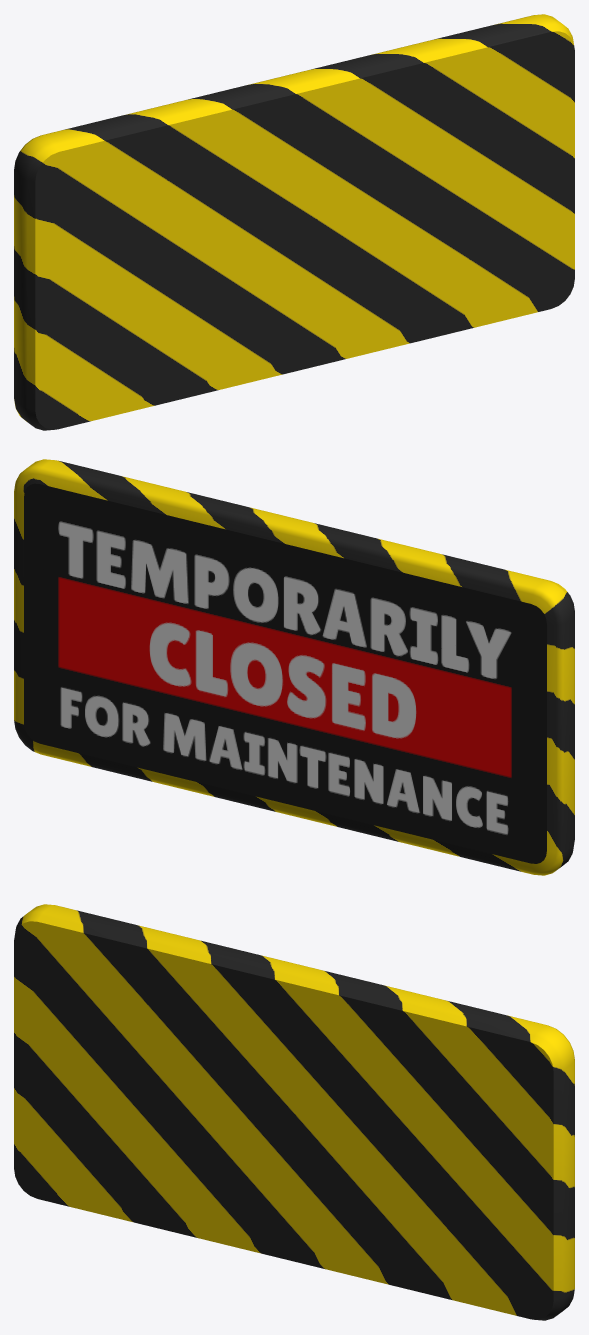
Rendered from hazard_barrier.glb.
3 renders of one model, top to bottom at view 1: azimuth 30°, elevation 25°; view 2: azimuth 150°, elevation 25°; view 3: azimuth 330°, elevation 25°, orthographic.
Visible parts, largest first — view 1: Plane; view 2: Plane; view 3: Plane.
Part boxes in pixels (x1,y1,x2,y2): Plane: (14,14,574,430); Plane: (14,459,574,875); Plane: (14,904,574,1320).
Size of the model in its own units: 4.35 by 2.17 by 0.2684.
Materials: 2 (2 with a texture image).
